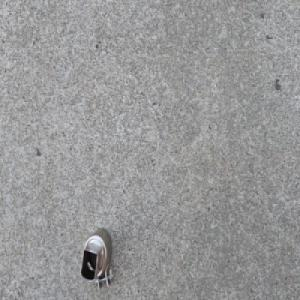MetalPart: (79, 226, 114, 294)
